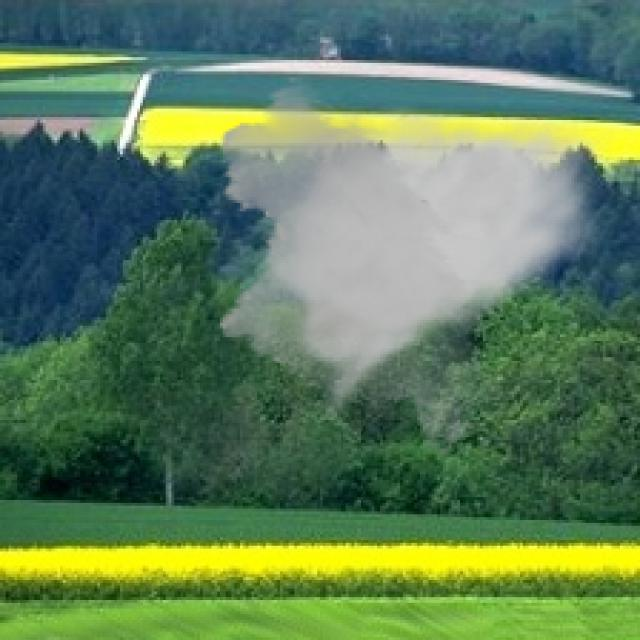Smoke: (208, 74, 614, 457)
